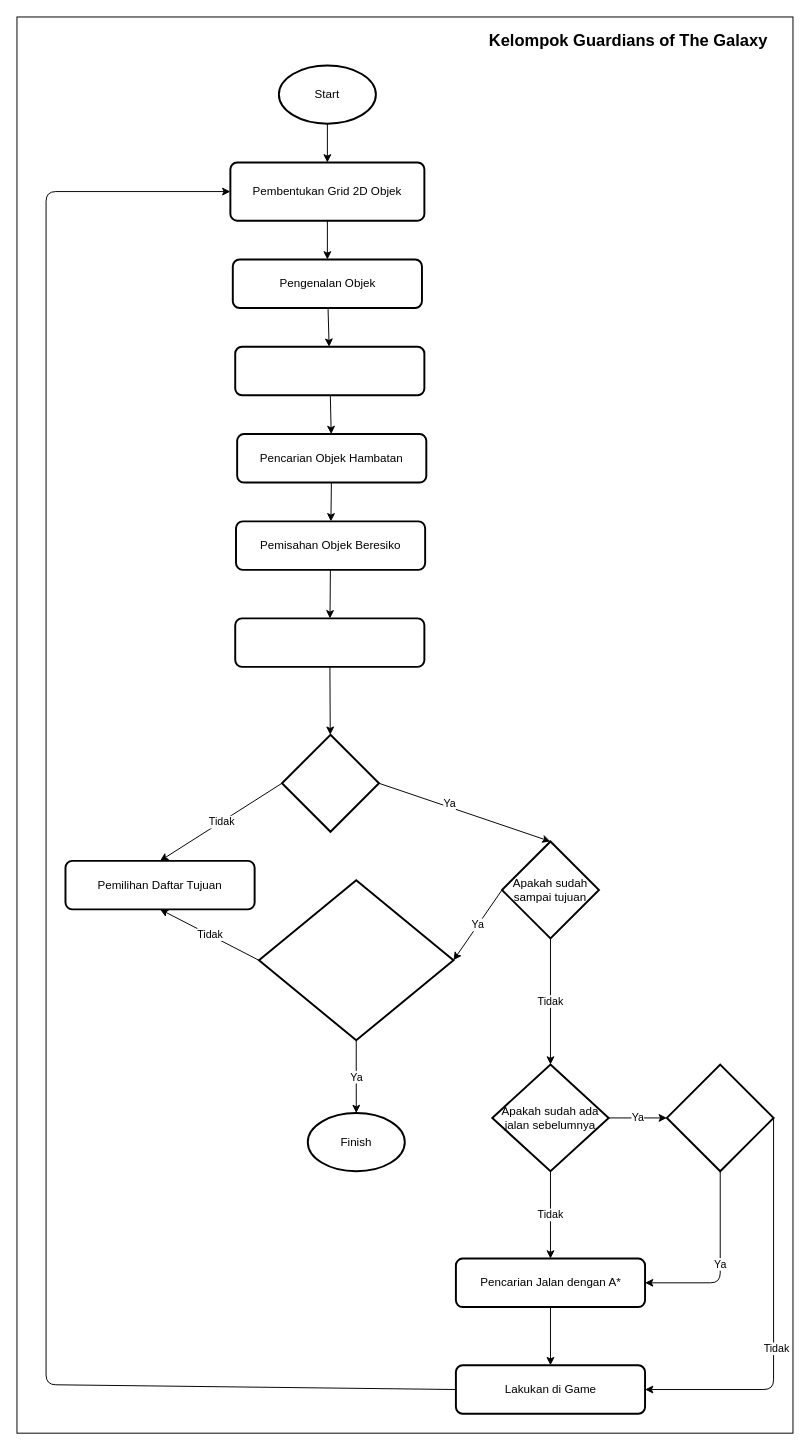
Image size: 810x1450. Some labels were removed from this diagram. The centre of each missing label's shape, as x and y in pixels:
"Apakah jalan melewati objek beresiko" goes at pixel 719 1117.
"Apakah sudah ada tujuan" goes at pixel 330 782.
"Apakah sudah sampai tujuan akhir yang ditentukan" goes at pixel 356 960.
"Pencarian Objek Jalan" goes at pixel 329 370.
"Pencarian Posisi Sekarang" goes at pixel 329 642.
